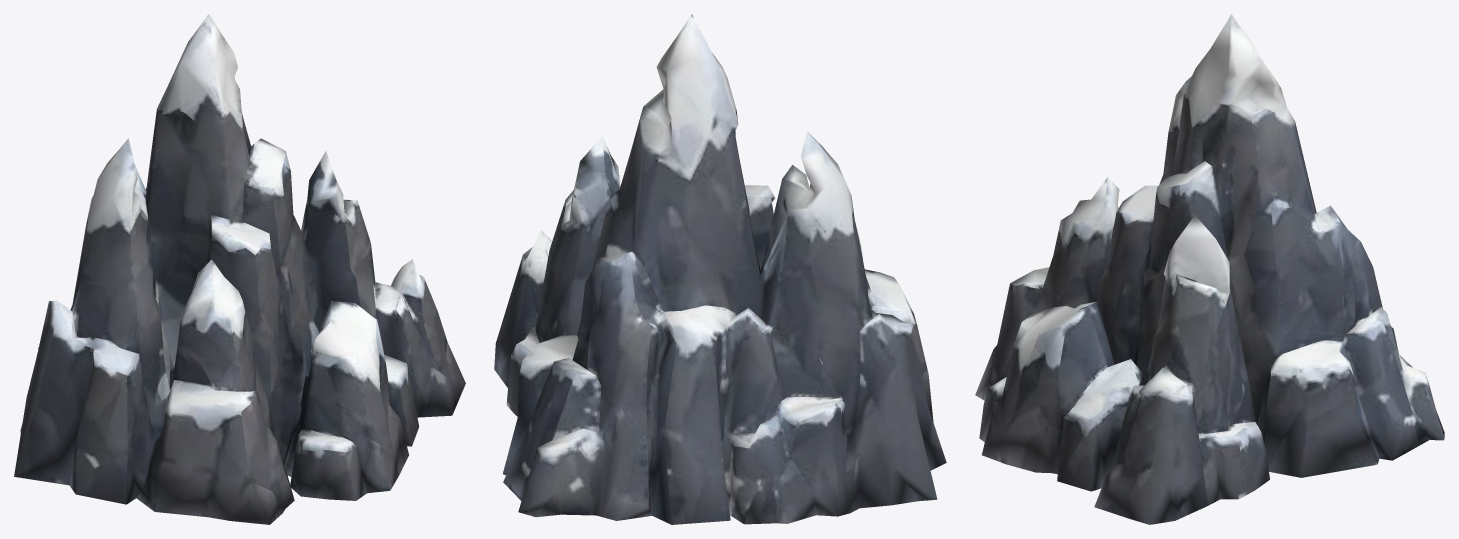
The model's file is cliff_spires_snow.glb.
3 views of the same model, side by side, from view 1: azimuth 30°, elevation 25°; view 2: azimuth 150°, elevation 25°; view 3: azimuth 270°, elevation 25° (orthographic). The views are drawn at different scales.
Visible parts, largest first — view 1: BakeLow; view 2: BakeLow; view 3: BakeLow.
Boxes of the visible parts, left/top/right/bottom form: BakeLow: left=14, top=14, right=465, bottom=524; BakeLow: left=494, top=14, right=946, bottom=524; BakeLow: left=975, top=14, right=1444, bottom=524.
Size of the model in its own units: 0.8258 by 0.7471 by 0.7697.
Materials: 1 (1 with a texture image).
